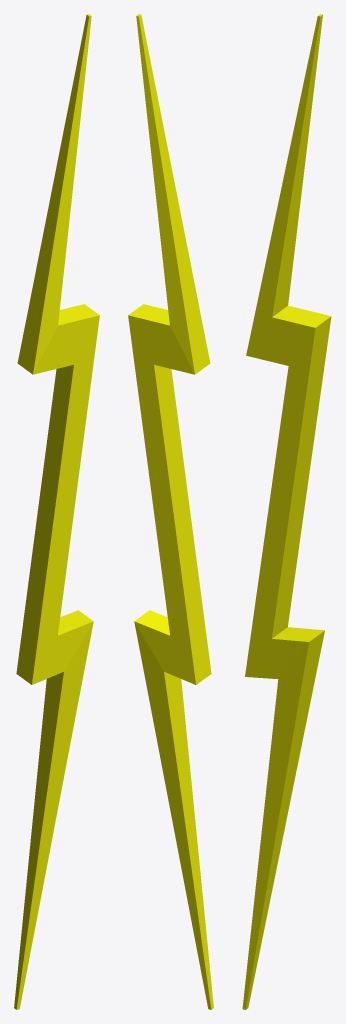
Rendered from Imported Lightning.fbx.
The picture shows the model from 3 angles, left to right: view 1: azimuth 30°, elevation 25°; view 2: azimuth 150°, elevation 25°; view 3: azimuth 330°, elevation 25°; orthographic projection. The views are drawn at different scales.
Parts seen in each view (by area): view 1: lightning bolt; view 2: lightning bolt; view 3: lightning bolt.
Boxes of the visible parts, x1,y1,x2,y2 form: lightning bolt: (14, 14, 99, 1009); lightning bolt: (128, 14, 213, 1009); lightning bolt: (242, 14, 331, 1009).
Size of the model in its own units: 62.96 by 764 by 21.91.
